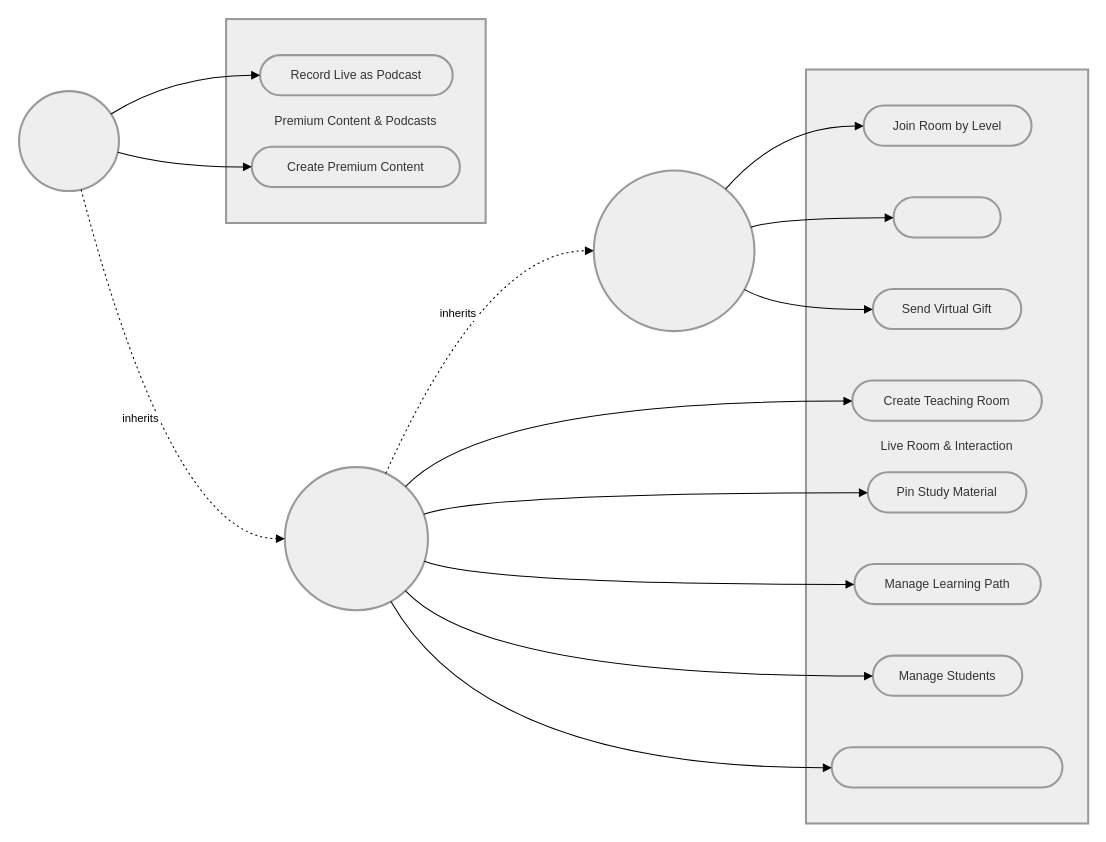
The diagram is 1106 pixels wide and 842 high, and some of its shapes have lost their labels. The centre of each missing label's shape, as x and y in pixels:
"LUCY Anonymous Student" goes at (x=673, y=250).
"LUCY Pro Mentor / Teacher" goes at (x=355, y=538).
"LUCY Super Influencer" goes at (x=68, y=141).
"Raise Hand" goes at (x=946, y=217).
"Receive Gifts from Students" goes at (x=946, y=767).
